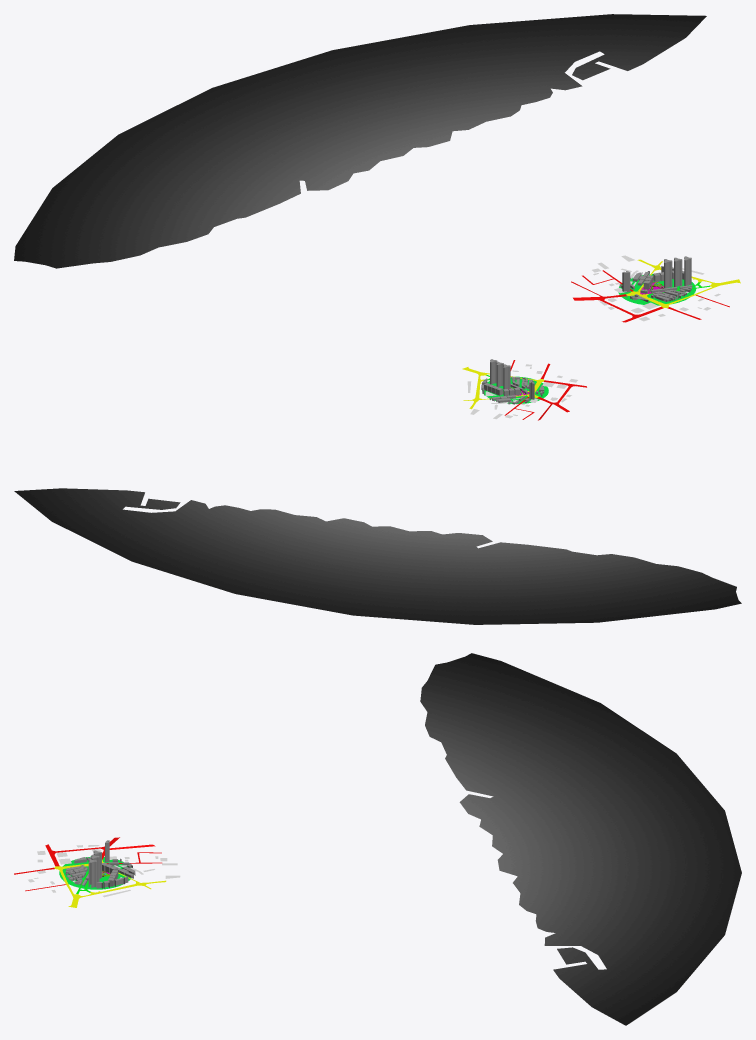
File: Enviroment_6.fbx
The picture shows the model from 3 angles, top to bottom: view 1: azimuth 30°, elevation 25°; view 2: azimuth 150°, elevation 25°; view 3: azimuth 270°, elevation 25°; orthographic projection. The views are drawn at different scales.
Visible parts, largest first — view 1: Water, City, Road_3, grass, circle, Road_2; view 2: Water, City, grass, Road_3; view 3: Water, City, Road_3, grass.
Boxes of the visible parts, x1=… form: Water: x1=14, y1=14, x2=706, y2=268; City: x1=619, y1=266, x2=692, y2=302; Road_3: x1=571, y1=270, x2=729, y2=322; grass: x1=592, y1=255, x2=720, y2=321; circle: x1=618, y1=274, x2=695, y2=305; Road_2: x1=626, y1=259, x2=740, y2=307; Water: x1=14, y1=488, x2=741, y2=624; City: x1=481, y1=376, x2=544, y2=404; grass: x1=467, y1=364, x2=577, y2=419; Road_3: x1=504, y1=360, x2=586, y2=420; Water: x1=420, y1=653, x2=741, y2=1025; City: x1=65, y1=857, x2=135, y2=888; Road_3: x1=14, y1=837, x2=161, y2=891; grass: x1=28, y1=845, x2=180, y2=897.
Size of the model in its own units: 499223 by 17892 by 411949.
